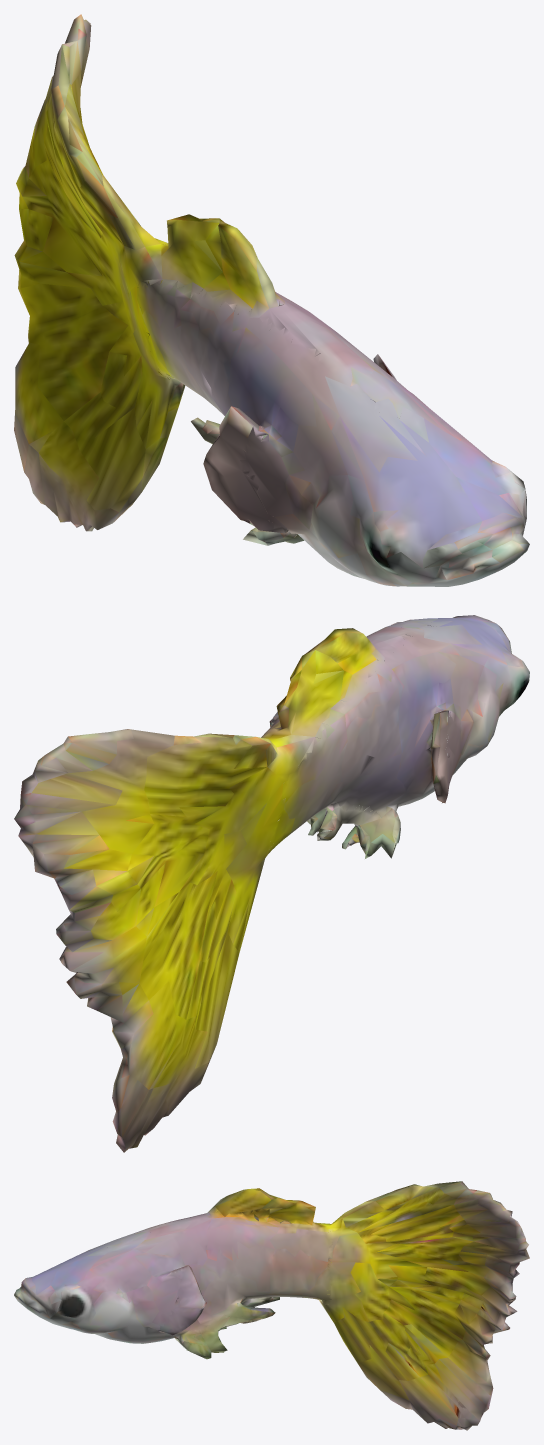
The model's file is strain-yellow_mosaic.lo.glb.
3 views of the same model, one above another, from view 1: azimuth 30°, elevation 25°; view 2: azimuth 150°, elevation 25°; view 3: azimuth 270°, elevation 25° (orthographic). The views are drawn at different scales.
Parts seen in each view (by area): view 1: Mesh_0.001; view 2: Mesh_0.001; view 3: Mesh_0.001.
Part boxes in pixels (left/top/right/bottom): Mesh_0.001: left=14, top=14, right=529, bottom=586; Mesh_0.001: left=14, top=615, right=529, bottom=1152; Mesh_0.001: left=14, top=1181, right=529, bottom=1430.
Bounding box in the file's own units: 0.00843 × 0.0192 × 0.0359.
Materials: 2 (2 with a texture image).
